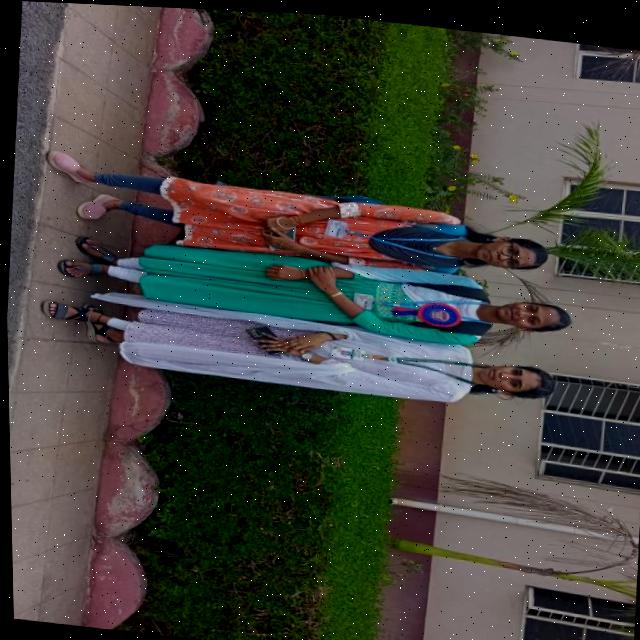id_card: (319, 329, 490, 386), (318, 213, 476, 265), (340, 282, 491, 326)
